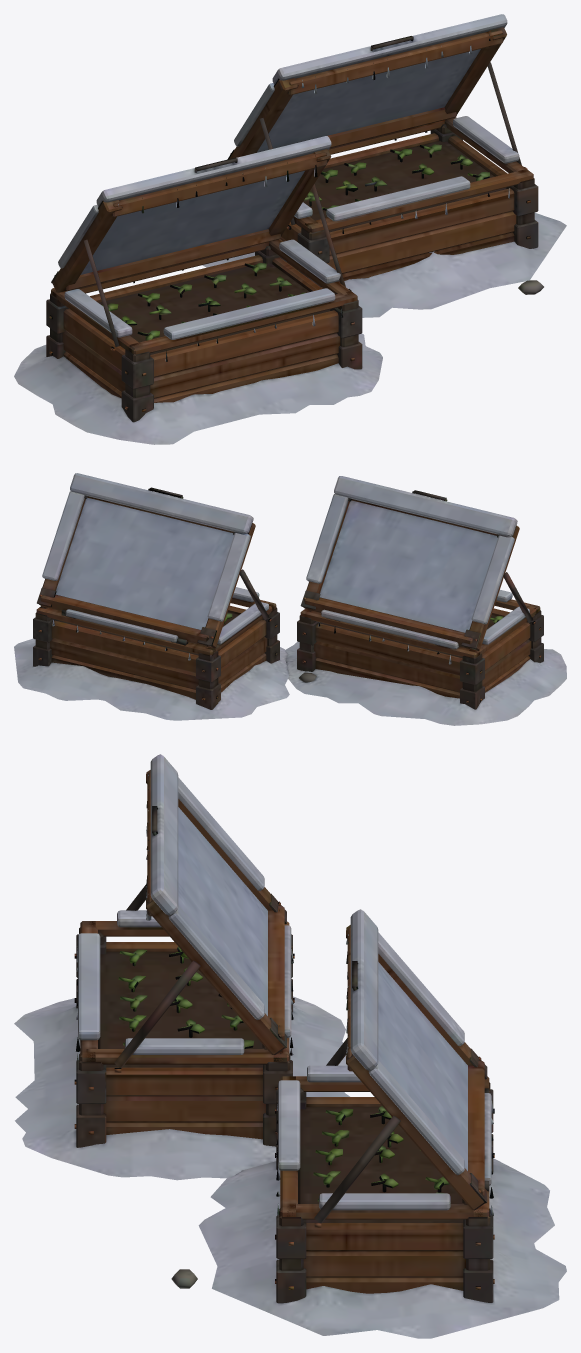
File: coldframes.glb
The picture shows the model from 3 angles, top to bottom: view 1: azimuth 30°, elevation 25°; view 2: azimuth 150°, elevation 25°; view 3: azimuth 270°, elevation 25°; orthographic projection. The views are drawn at different scales.
Visible parts, largest first — view 1: model; view 2: model; view 3: model.
Part boxes in pixels (x1=…): model: x1=14, y1=14, x2=566, y2=444; model: x1=14, y1=473, x2=566, y2=725; model: x1=14, y1=754, x2=566, y2=1338.
Bounding box in the file's own units: 3.71 × 1.34 × 2.49.
Materials: 1 (1 with a texture image).
